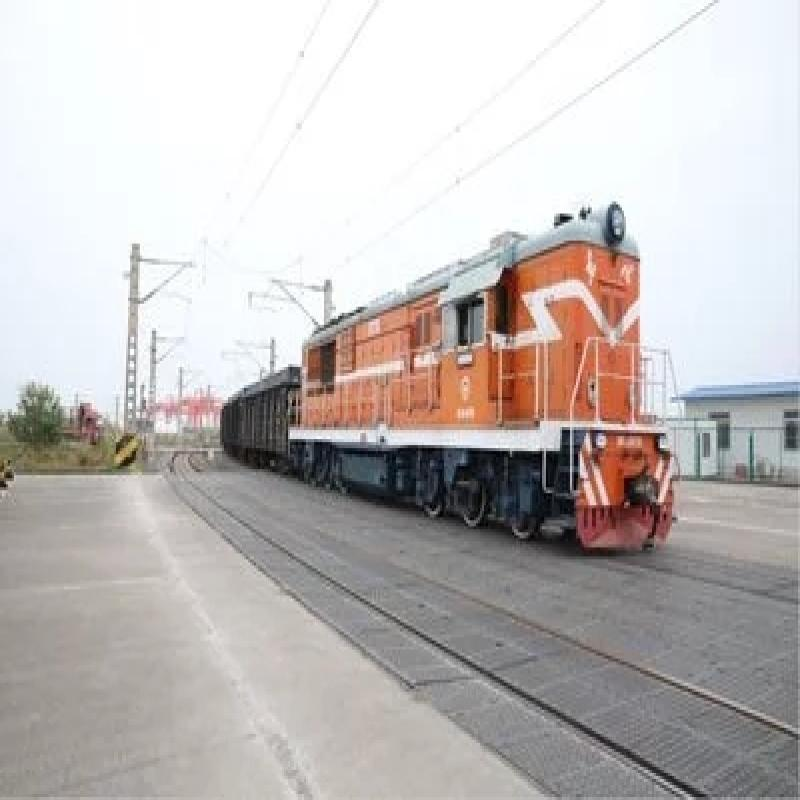train: (287, 191, 681, 567)
